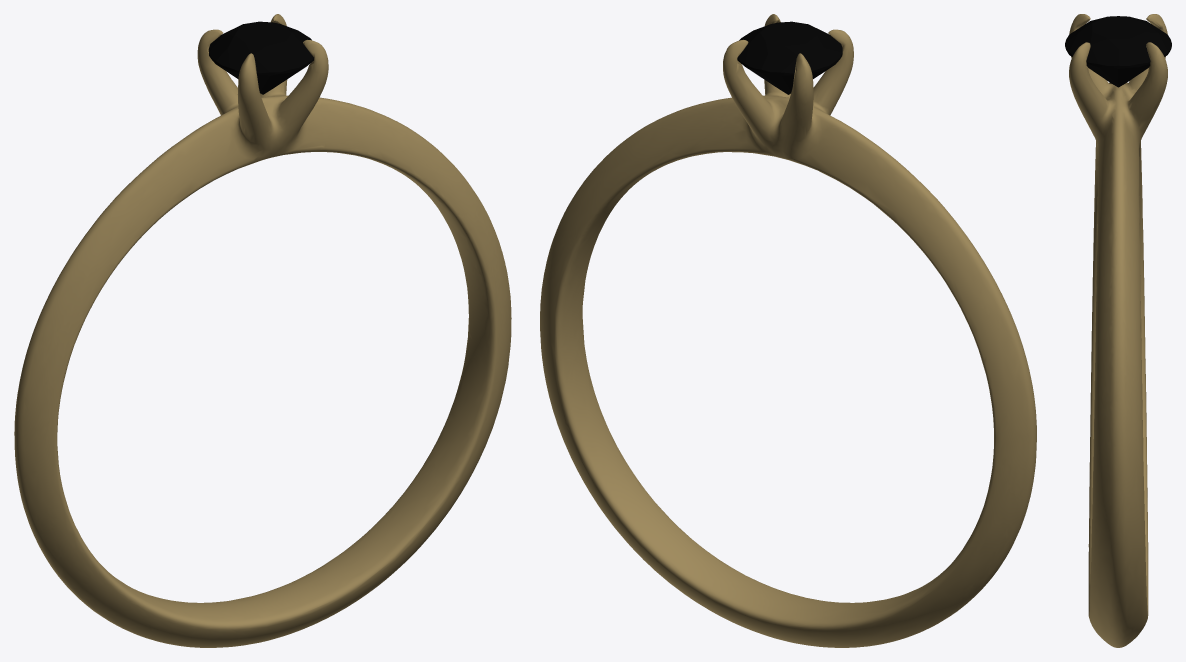
File: ring.glb
3 renders of one model, left to right at view 1: azimuth 30°, elevation 25°; view 2: azimuth 150°, elevation 25°; view 3: azimuth 270°, elevation 25°, orthographic. The views are drawn at different scales.
Visible parts, largest first — view 1: Object_3, Object_2; view 2: Object_3, Object_2; view 3: Object_3, Object_2.
Part boxes in pixels (<box>): Object_3: <box>14,14,511,647</box>; Object_2: <box>208,21,313,94</box>; Object_3: <box>540,14,1036,647</box>; Object_2: <box>737,21,842,94</box>; Object_3: <box>1069,14,1167,647</box>; Object_2: <box>1065,16,1171,87</box>.
Size of the model in its own units: 20.93 by 24.56 by 4.
2 materials, 1 textured.
